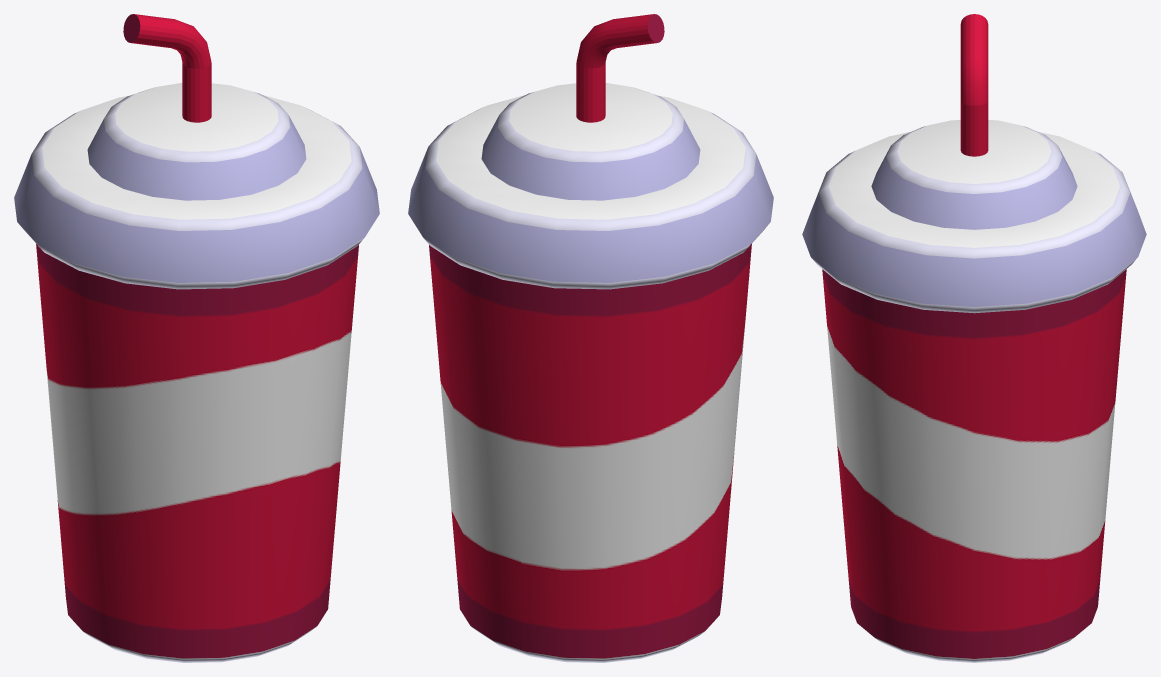
The model's file is Cola_Cup.glb.
The picture shows the model from 3 angles, left to right: view 1: azimuth 30°, elevation 25°; view 2: azimuth 150°, elevation 25°; view 3: azimuth 270°, elevation 25°; orthographic projection. The views are drawn at different scales.
Parts seen in each view (by area): view 1: Cola_Cup; view 2: Cola_Cup; view 3: Cola_Cup.
Part boxes in pixels (x1,y1,x2,y2): Cola_Cup: (14,14,379,662); Cola_Cup: (408,14,773,662); Cola_Cup: (802,14,1146,662).
Bounding box in the file's own units: 0.164 × 0.3009 × 0.164.
Materials: 1 (1 with a texture image).
